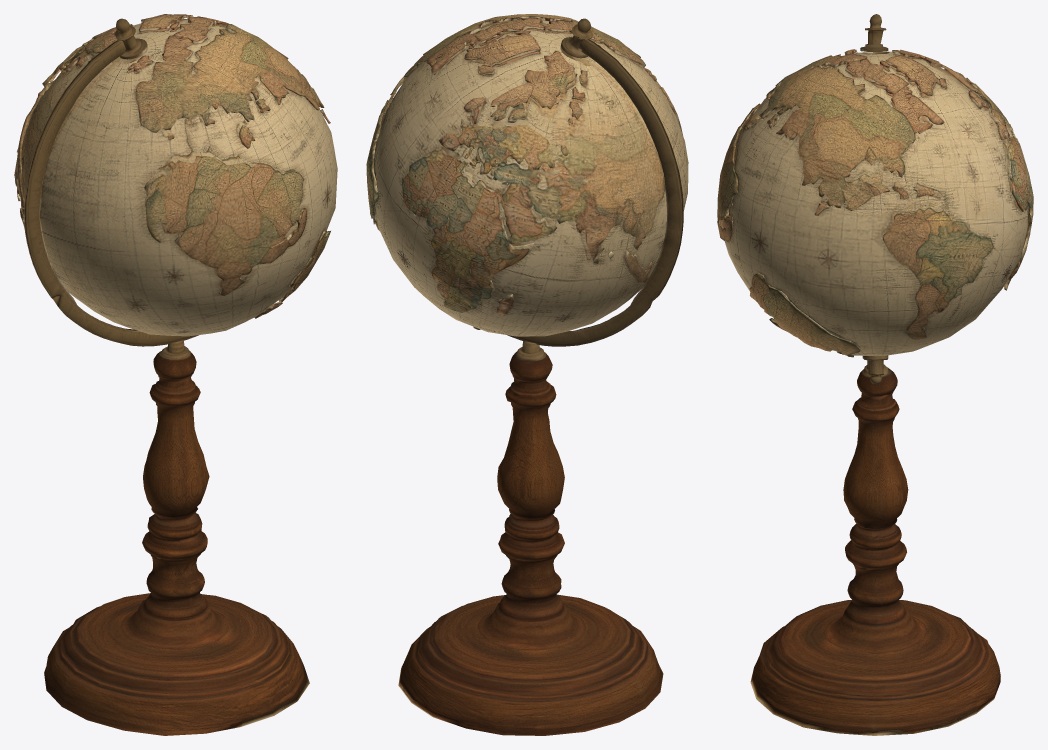
File: globe.glb
3 views of the same model, side by side, from view 1: azimuth 30°, elevation 25°; view 2: azimuth 150°, elevation 25°; view 3: azimuth 270°, elevation 25° (orthographic). The views are drawn at different scales.
Size of the model in its own units: 0.4297 by 0.9507 by 0.4238.
1 material, 1 textured.
